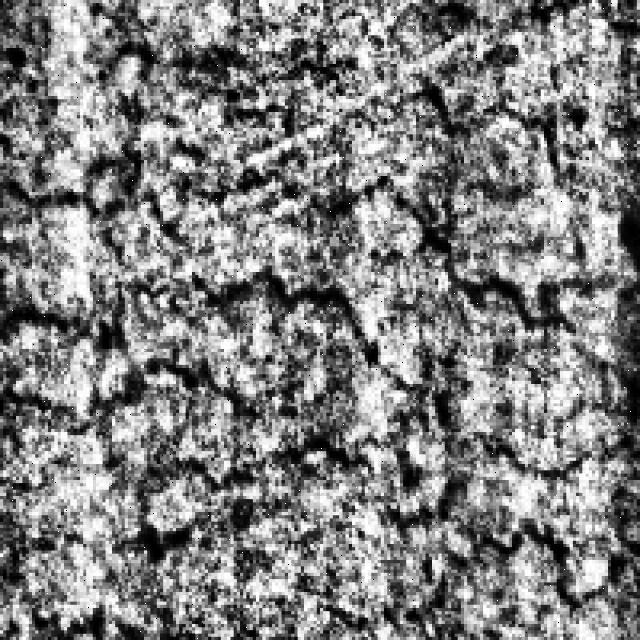Pitted_Surface: (10, 266, 572, 522), (12, 0, 454, 298), (394, 390, 640, 607)
